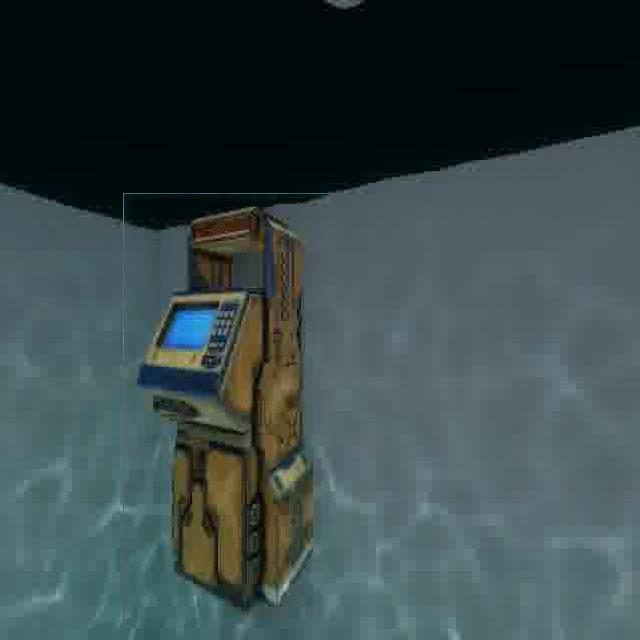Control Panel: (123, 193, 329, 624)
